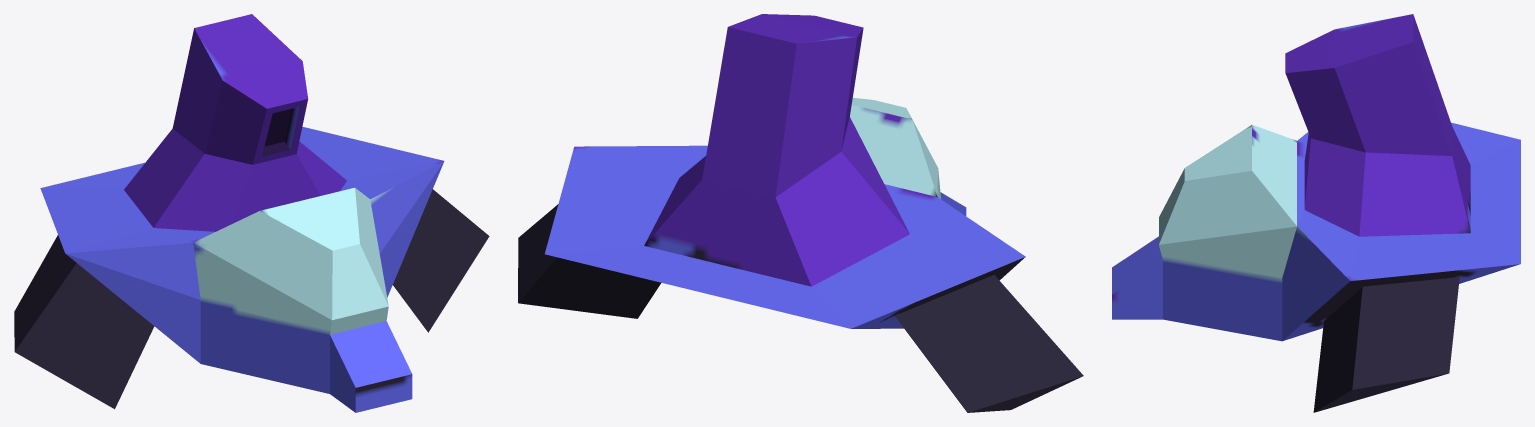
The model's file is basic.glb.
3 views of the same model, side by side, from view 1: azimuth 30°, elevation 25°; view 2: azimuth 150°, elevation 25°; view 3: azimuth 270°, elevation 25° (orthographic). The views are drawn at different scales.
Visible parts, largest first — view 1: Cube; view 2: Cube; view 3: Cube.
Part boxes in pixels (<box>): Cube: <box>14,14,489,412</box>; Cube: <box>518,14,1083,412</box>; Cube: <box>1112,14,1520,412</box>.
Size of the model in its own units: 4.07 by 2.56 by 3.06.
1 material, 1 textured.
